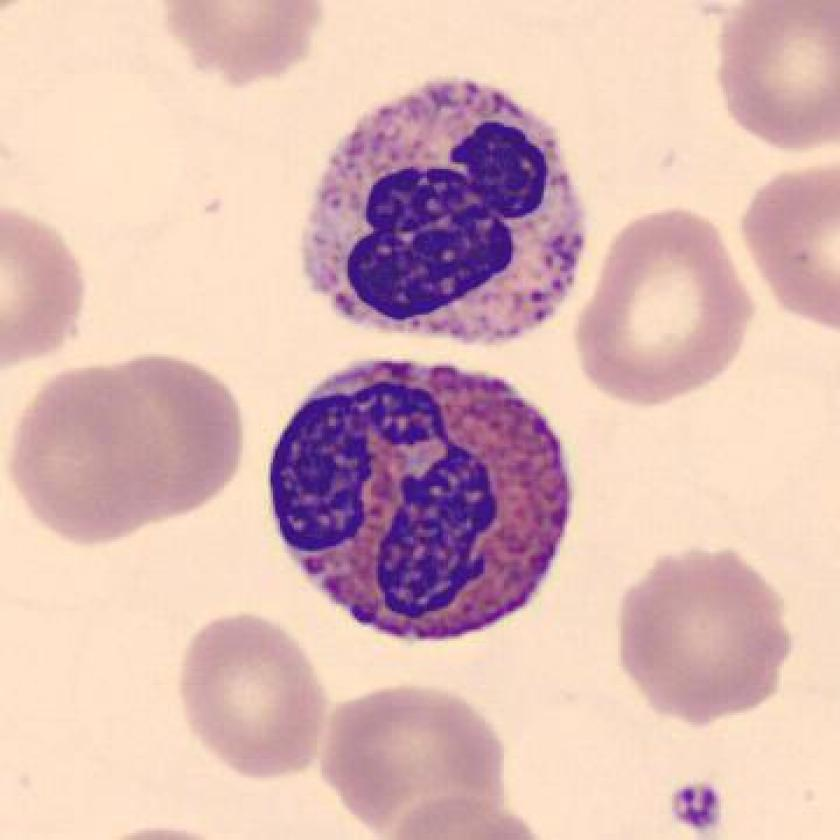eosinophil: (258, 351, 589, 654)
